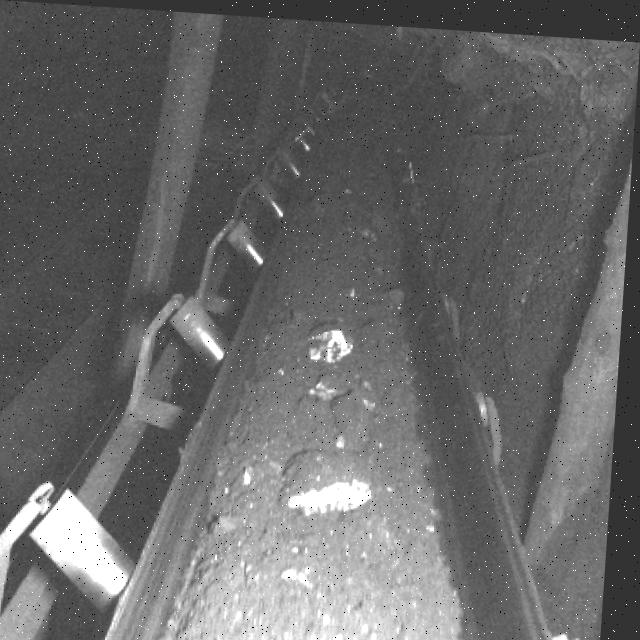large_sized_coal: (283, 440, 380, 512), (311, 313, 357, 362)
